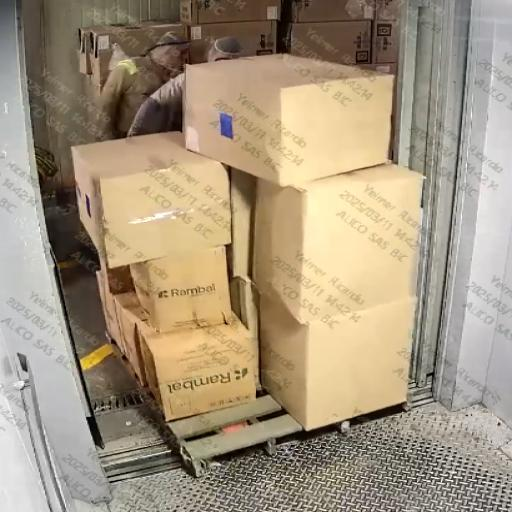Caja no amarrada: (61, 50, 488, 488)
